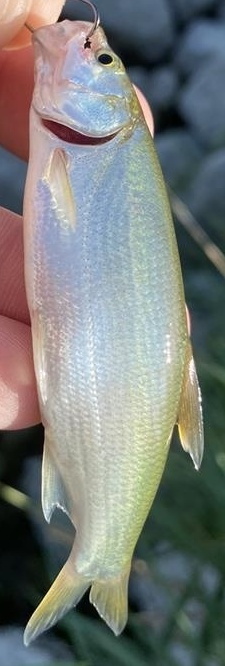Aspius aspius: (20, 20, 205, 646)
